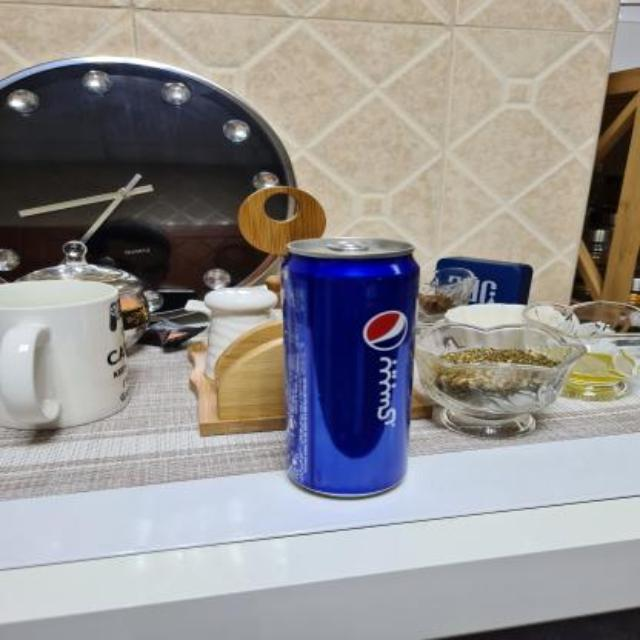metal: (285, 238, 418, 497)
